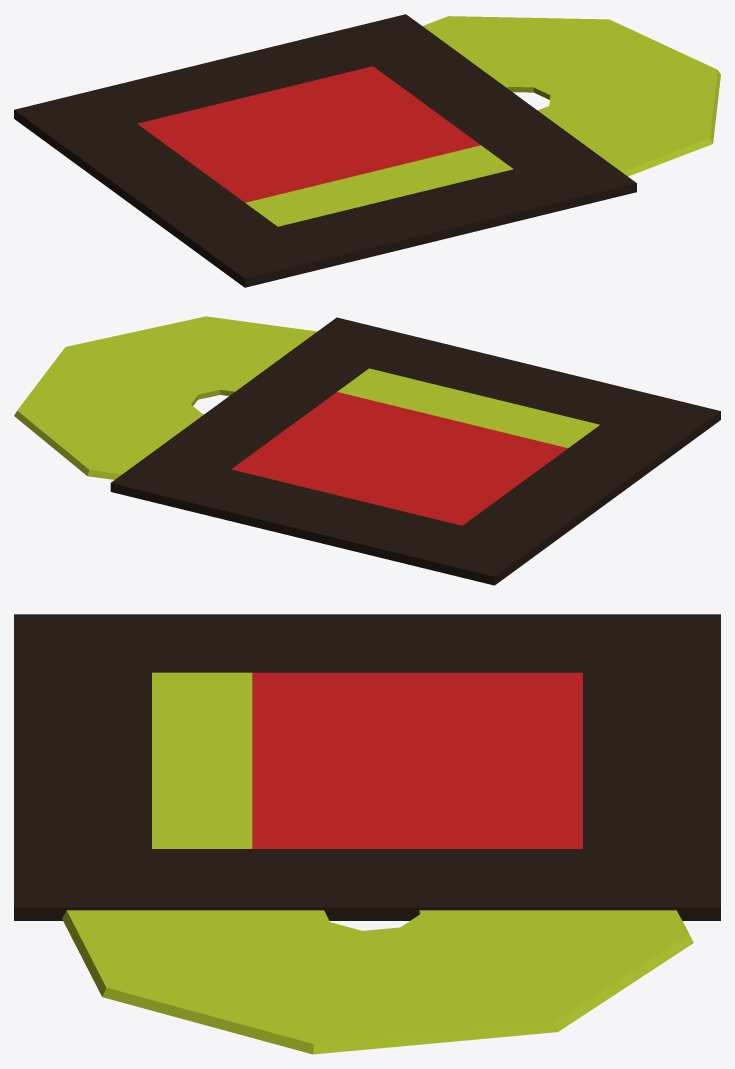
The model's file is artifact_small.FBX.
The picture shows the model from 3 angles, top to bottom: view 1: azimuth 30°, elevation 25°; view 2: azimuth 150°, elevation 25°; view 3: azimuth 270°, elevation 25°; orthographic projection. The views are drawn at different scales.
Parts seen in each view (by area): view 1: artifact_small; view 2: artifact_small; view 3: artifact_small.
Boxes of the visible parts, x1,y1,x2,y2 form: artifact_small: [14, 14, 720, 287]; artifact_small: [14, 316, 720, 585]; artifact_small: [14, 614, 720, 1054].
Bounding box in the file's own units: 55.85 × 0.8365 × 38.94.
